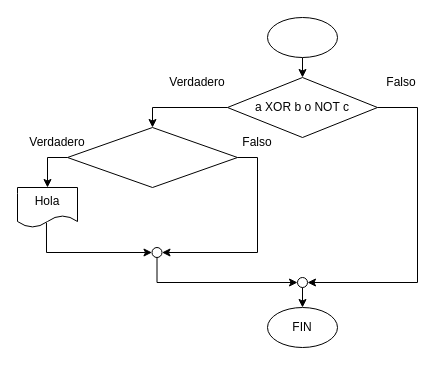
The diagram is 448 pixels wide and 365 high, and some of its shapes have lost their labels. The centre of each missing label's shape, as x and y in pixels:
(a XNOR b) NAND c: point (152, 157)
INICIO: point (302, 37)
